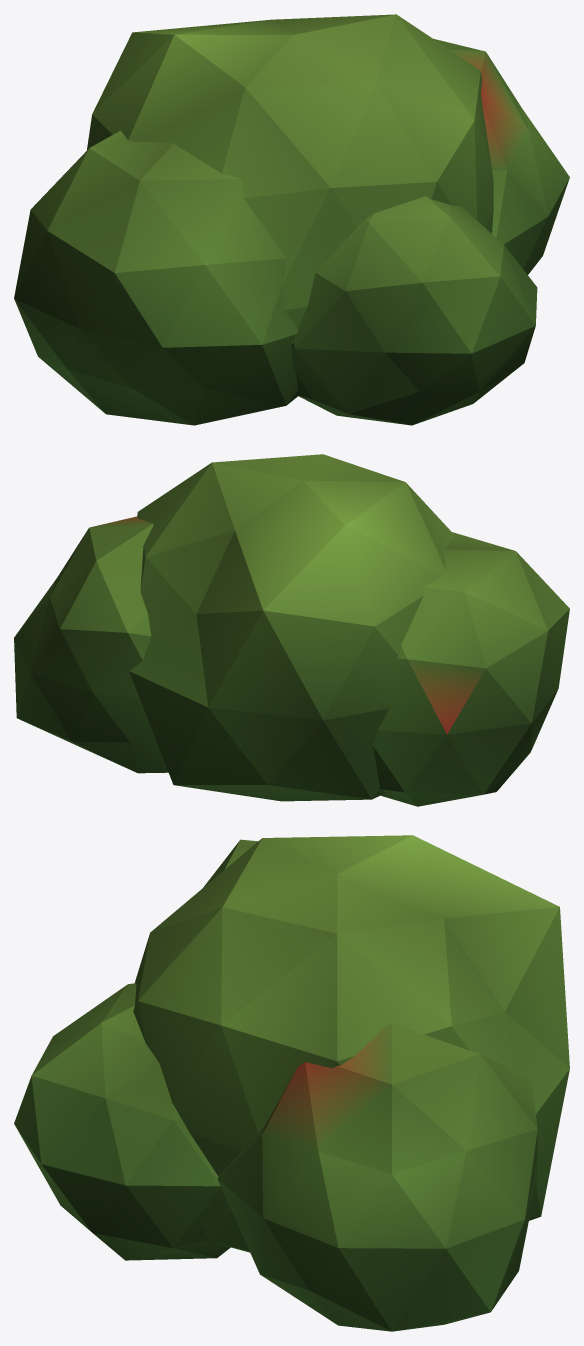
File: bush.glb
The picture shows the model from 3 angles, top to bottom: view 1: azimuth 30°, elevation 25°; view 2: azimuth 150°, elevation 25°; view 3: azimuth 270°, elevation 25°; orthographic projection. The views are drawn at different scales.
Parts seen in each view (by area): view 1: bush; view 2: bush; view 3: bush.
Part boxes in pixels (x1,y1,x2,y2): bush: (14,14,569,425); bush: (14,454,569,806); bush: (14,835,569,1331).
Bounding box in the file's own units: 1.88 × 1.04 × 1.53.
